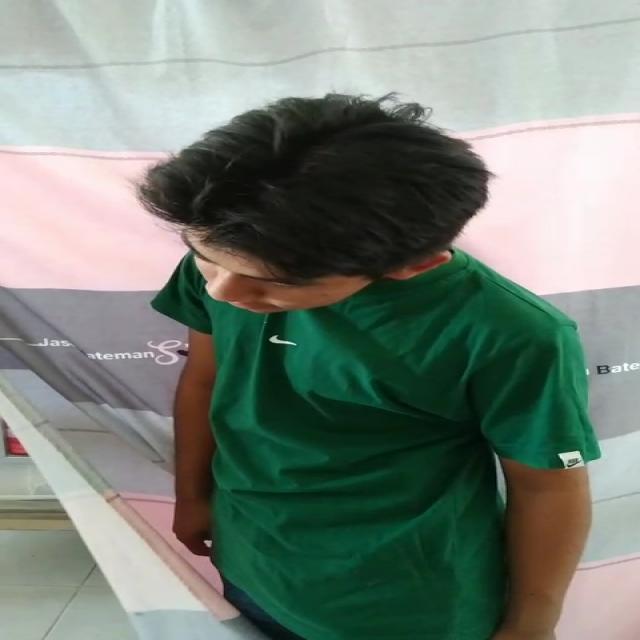9_cabeza_baja: (131, 92, 488, 315)
